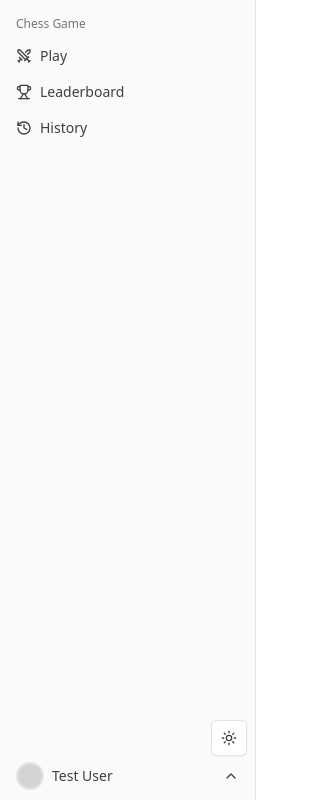
Scenario: <AppSidebar /> › when not on login page › profile dropdown › should render logout button in dropdown
The width and height of the screenshot is (320, 800).
Click the button with test id "sidebar-profile-toggle". click: (128, 776)
box: [8,760,247,792]
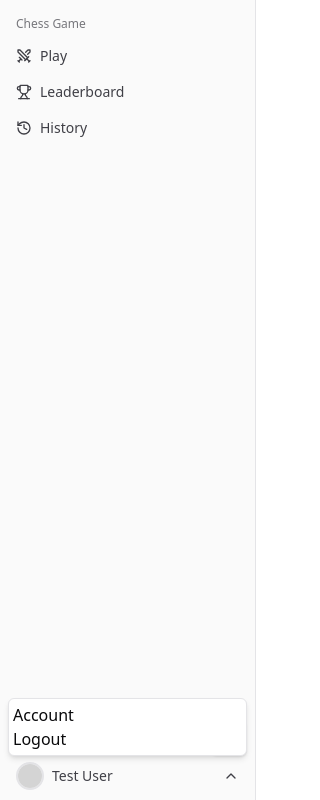
Expected: the text "Logout" is shown, [13,728,66,750]
